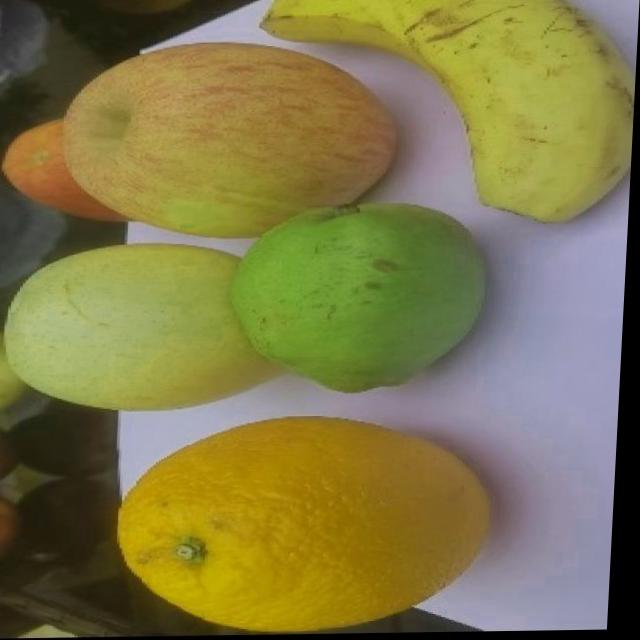Apple: (59, 40, 405, 243)
Banana: (252, 0, 640, 231)
Orange: (118, 415, 502, 637)
